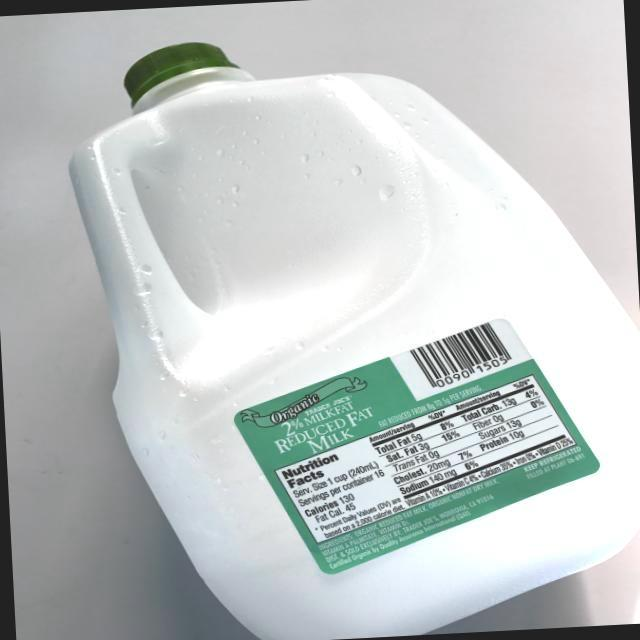plastic: (52, 13, 640, 640)
